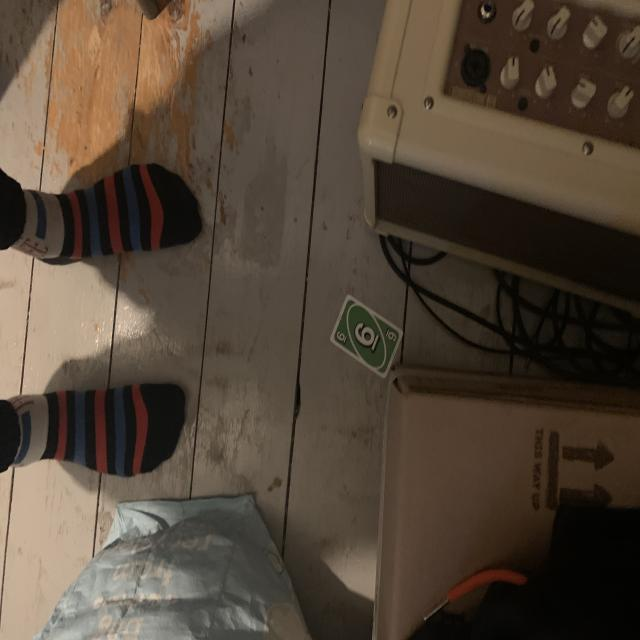lgreen-6: (335, 328, 349, 344)
